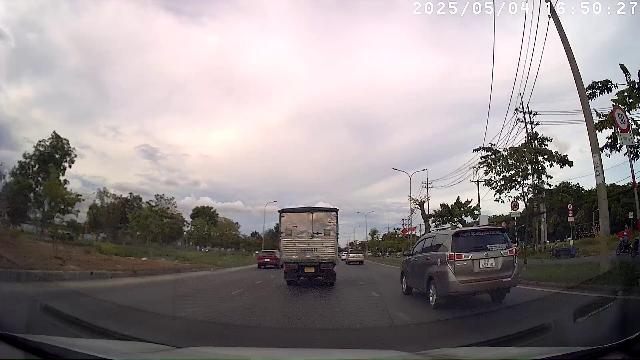127-toc-do-toi-da-50: (612, 106, 630, 132)
